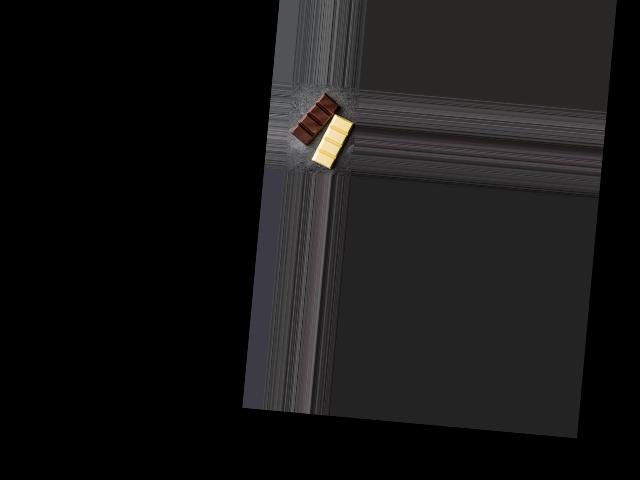chocolate: (289, 90, 355, 173)
